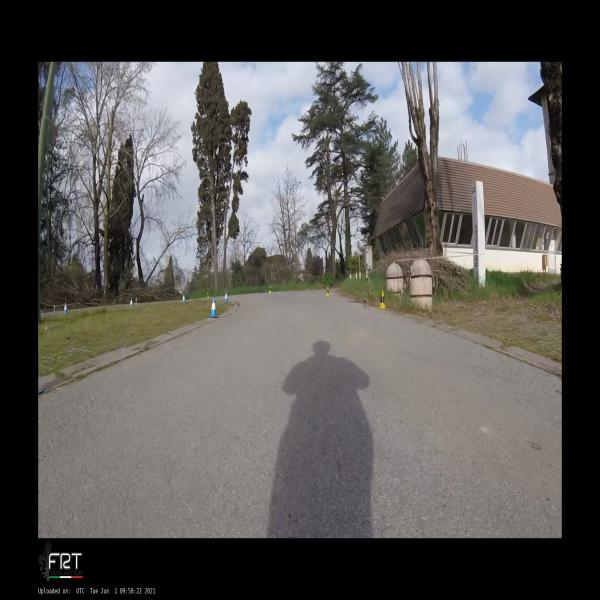blue_cone: (209, 298, 220, 318), (224, 291, 229, 303), (64, 302, 68, 313), (130, 298, 133, 308), (182, 294, 185, 303)
yellow_cone: (379, 291, 386, 309), (326, 286, 329, 297), (269, 286, 271, 293), (135, 298, 137, 305), (207, 292, 209, 298)
